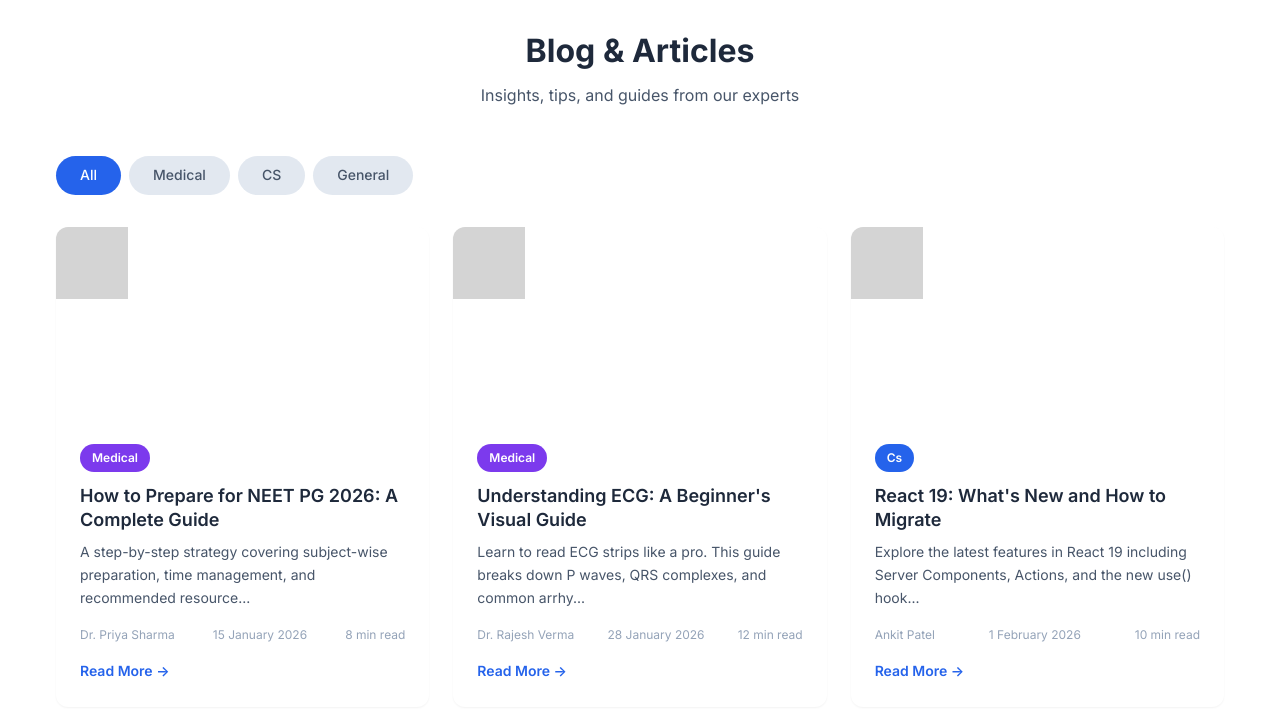
Test: Blog › filters to medical blogs when Medical tab is clicked
This screenshot has width=1280, height=720.
What coordinates should you click on to do the following:
click the button "Medical"
I would click on:
 (179, 176)
Its box is [129, 156, 230, 195].
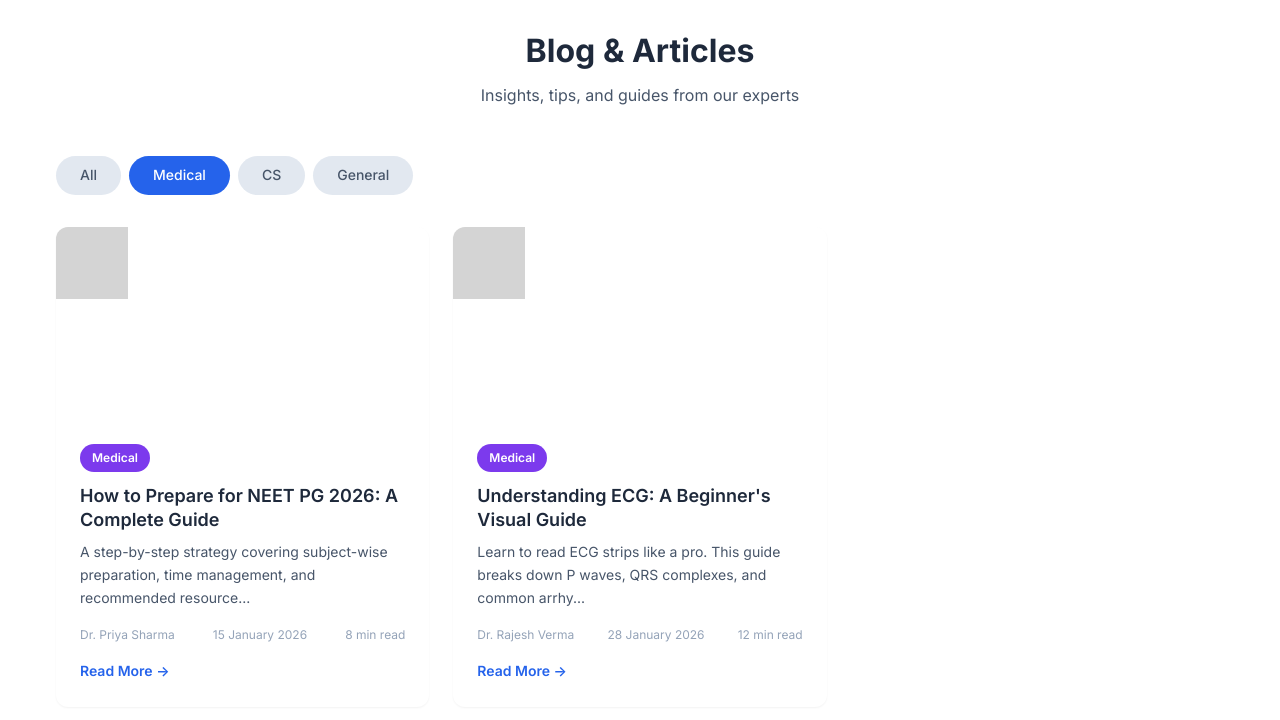
Expected: the heading "How to Prepare for NEET PG 2026: A Complete Guide" is shown, [80, 484, 405, 533]
Expected: the heading "React 19: What's New and How to Migrate" is gone
